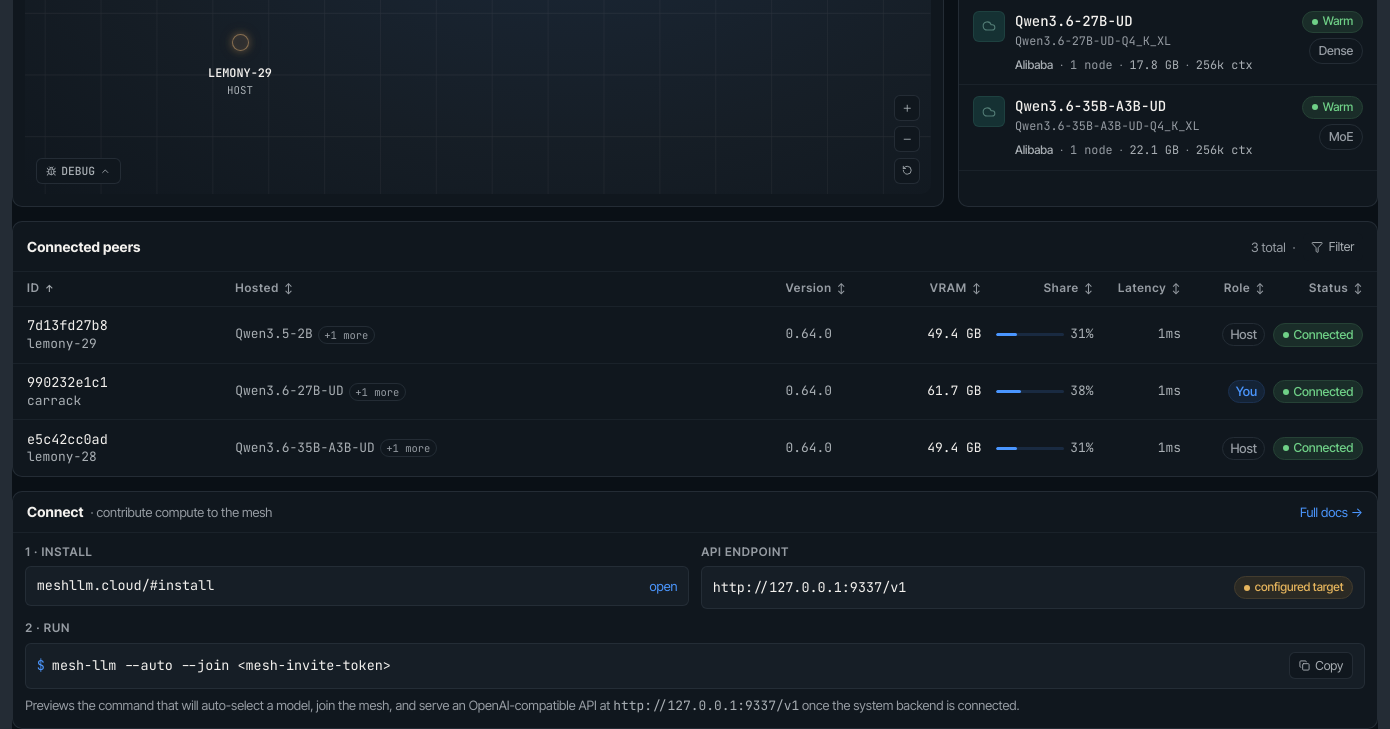
Test: dashboard app tab › copies the dashboard connect command to the clipboard
(page scrolled)
Click the button "Copy": (1321, 666) 1289,652 -> 1353,679
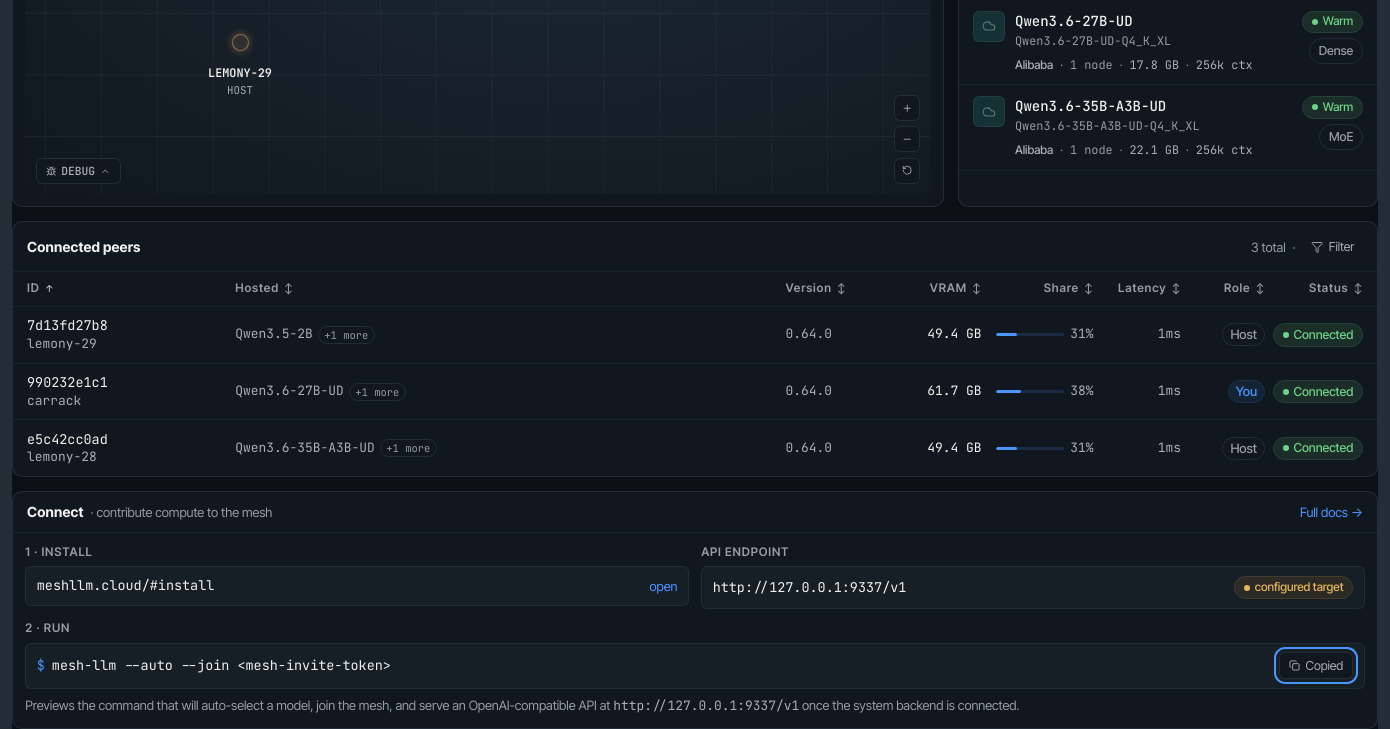
Result: the button "Copied" is shown at 1279,652 -> 1353,679
